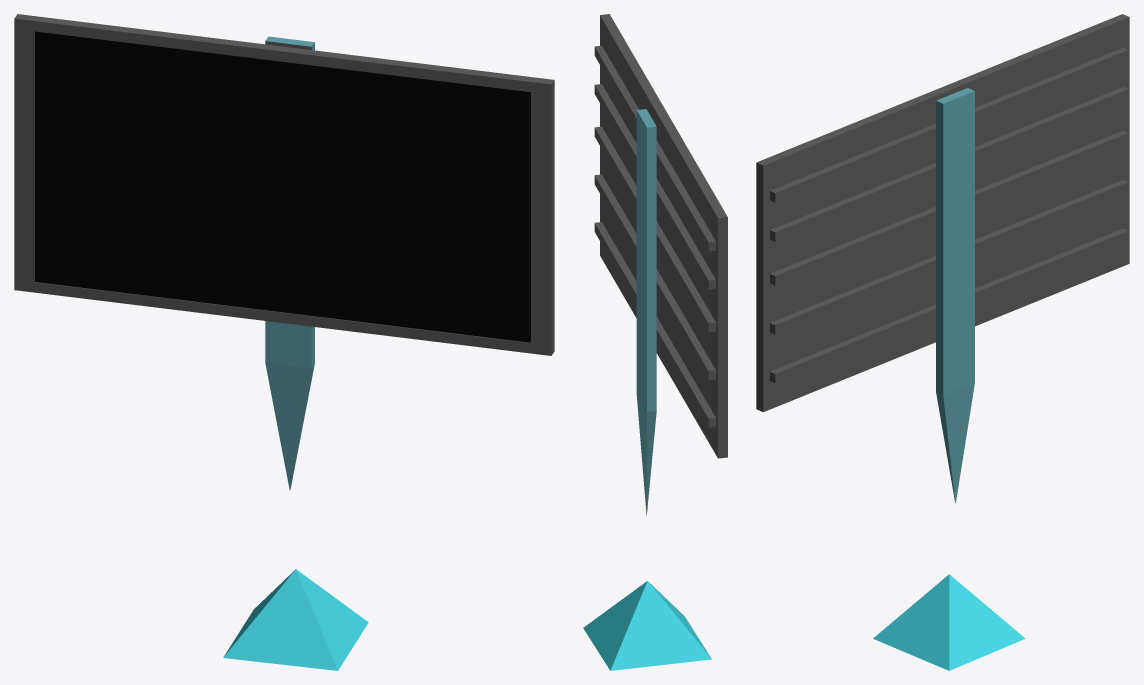
File: roboScreeeeeeeen.fbx
The picture shows the model from 3 angles, left to right: view 1: azimuth 30°, elevation 25°; view 2: azimuth 150°, elevation 25°; view 3: azimuth 270°, elevation 25°; orthographic projection. The views are drawn at different scales.
Visible parts, largest first — view 1: Куб, Конус; view 2: Куб, Конус; view 3: Куб, Конус.
Boxes of the visible parts, x1,y1,x2,y2 form: Куб: [14, 14, 554, 489]; Конус: [223, 569, 368, 670]; Куб: [594, 14, 727, 515]; Конус: [583, 581, 711, 670]; Куб: [756, 14, 1129, 502]; Конус: [873, 574, 1025, 670].
Size of the model in its own units: 277 by 462 by 288.
